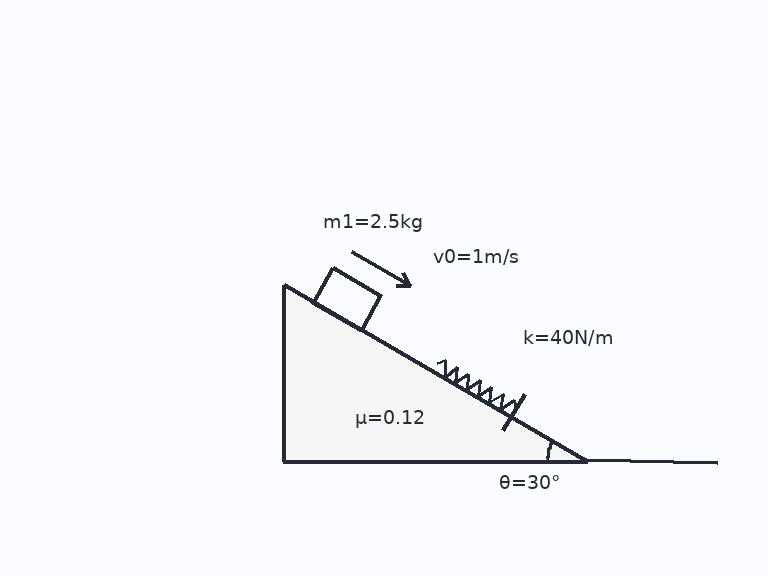block: (310, 265, 383, 332)
ramp: (281, 283, 589, 463)
spring: (434, 359, 518, 411)
